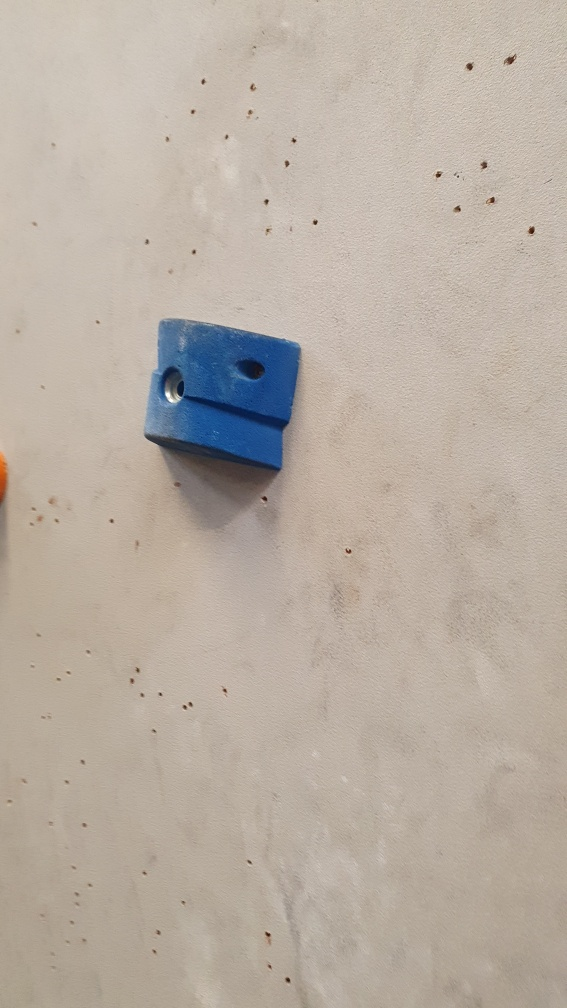Pinch: (142, 313, 302, 477)
